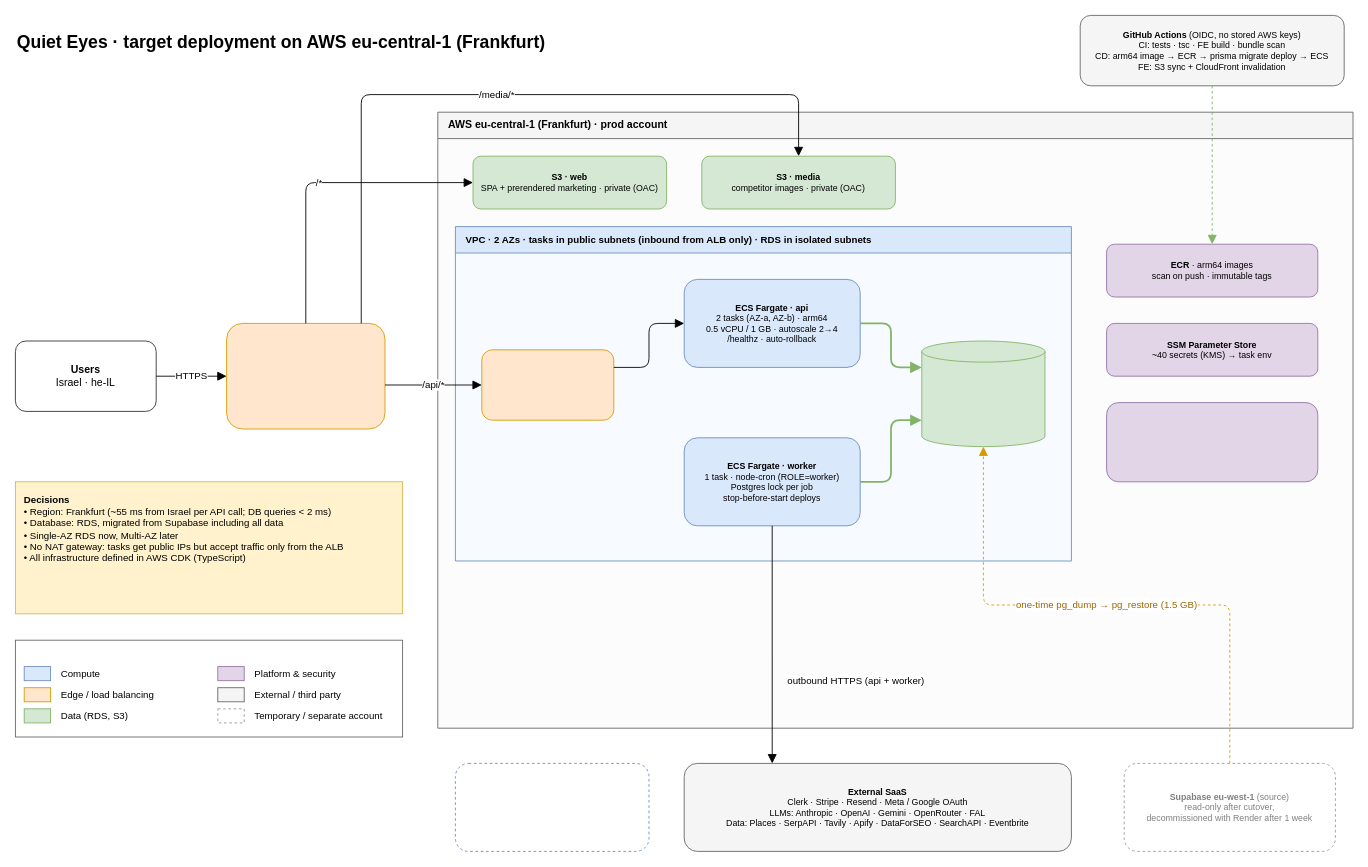
Image size: 1368x867. Some labels were removed from this diagram. Each missing label, with the box of its shape:
ALB accepts CloudFront only: (481, 349, 614, 420)
CloudFront + AWS WAF Shield Standard · ACM cert your domain (Route 53): (226, 323, 385, 429)
CloudWatch logs (30 d) + alarms CloudTrail · GuardDuty · Budgets: (1106, 402, 1318, 482)
Legend: (15, 639, 403, 737)
RDS PostgreSQL 17 db.t4g.small single-AZ (Multi-AZ later) PITR 7 days: (921, 340, 1045, 447)
Staging account same CDK stacks, scaled down 1 api · 1 worker · db.t4g.micro: (455, 763, 649, 851)
